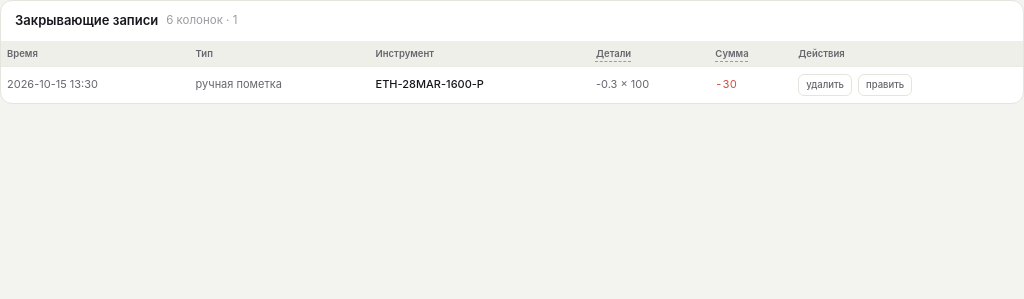
Test case: таблица закрывающих записей: подсказки заголовков колонок › даёт подсказку колонке «Детали» с разделами количества и цены
The width and height of the screenshot is (1024, 299).
# наведение на заголовок колонки деталей.
Hover over the button "Детали" at (614, 53), box left=596, top=46, right=631, bottom=60
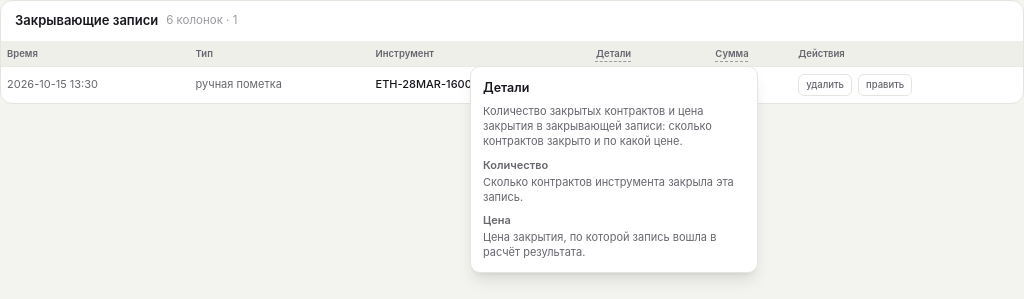
Now the tooltip shows "Детали", box left=483, top=80, right=529, bottom=95
Now the tooltip shows "Количество", box left=483, top=158, right=548, bottom=172
Now the tooltip shows "Сколько контрактов инструмента закрыла эта запись.", box left=483, top=175, right=734, bottom=204
